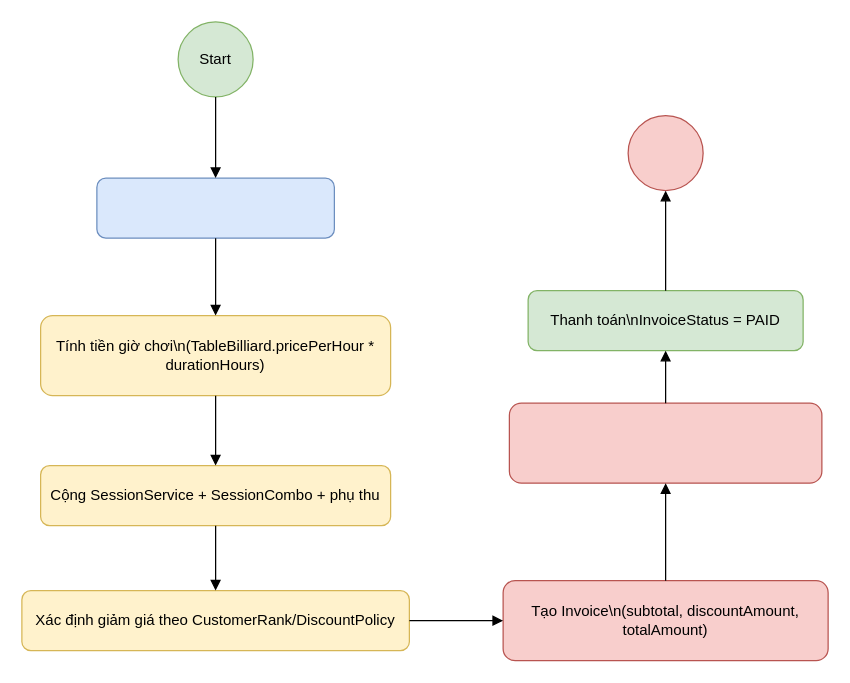
The diagram is 850 pixels wide and 683 high, and some of its shapes have lost their labels. The shapes that lost their labels are listed below. From the top down, each one's centre as x and y in pixels, then its label:
At (x=665, y=152): "End".
At (x=215, y=207): "Kết thúc BilliardSession".
At (x=665, y=442): "Tạo InvoiceDetail\n(giờ chơi, combo, service)".
